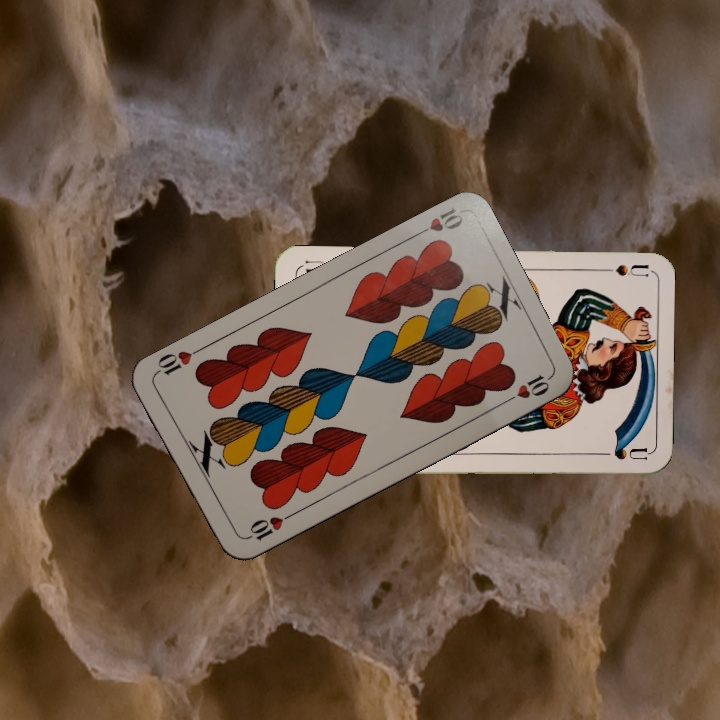H10: (409, 204, 466, 240), (240, 509, 295, 543)
SU: (590, 260, 649, 280)
